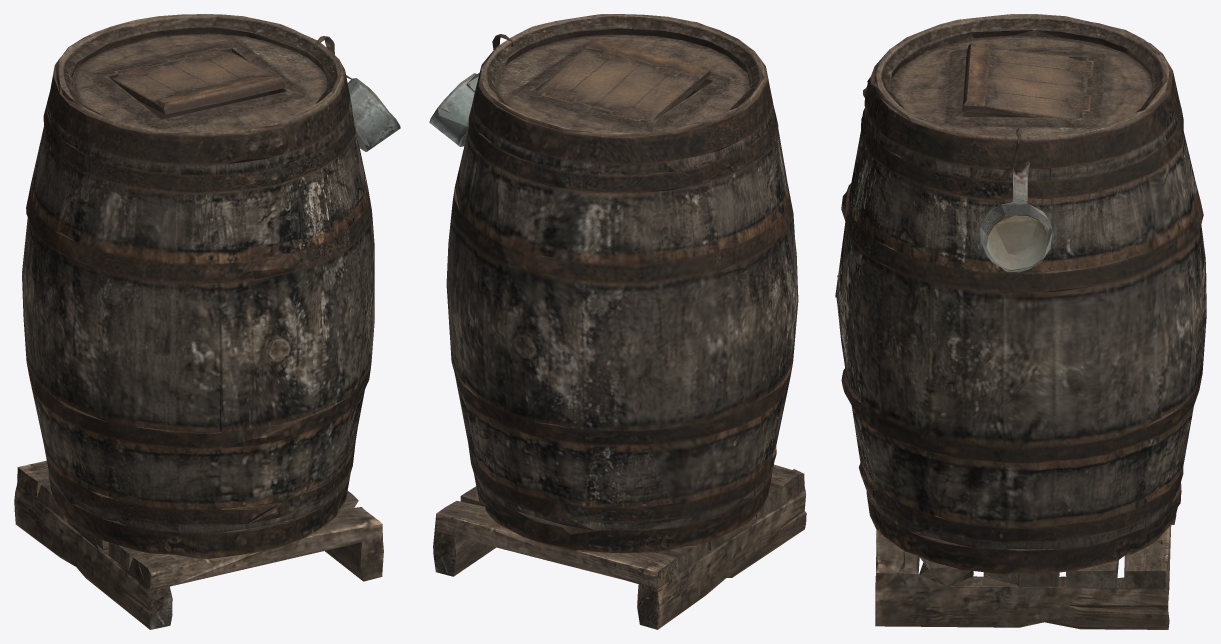
The model's file is scuttlebutt.glb.
3 renders of one model, left to right at view 1: azimuth 30°, elevation 25°; view 2: azimuth 150°, elevation 25°; view 3: azimuth 270°, elevation 25°, orthographic. The views are drawn at different scales.
Parts seen in each view (by area): view 1: output_unwrapped; view 2: output_unwrapped; view 3: output_unwrapped.
Part boxes in pixels (<box>): output_unwrapped: <box>14,14,400,629</box>; output_unwrapped: <box>429,14,806,629</box>; output_unwrapped: <box>835,14,1206,629</box>.
Bounding box in the file's own units: 0.7349 × 1 × 0.6679.
1 material, 1 textured.
